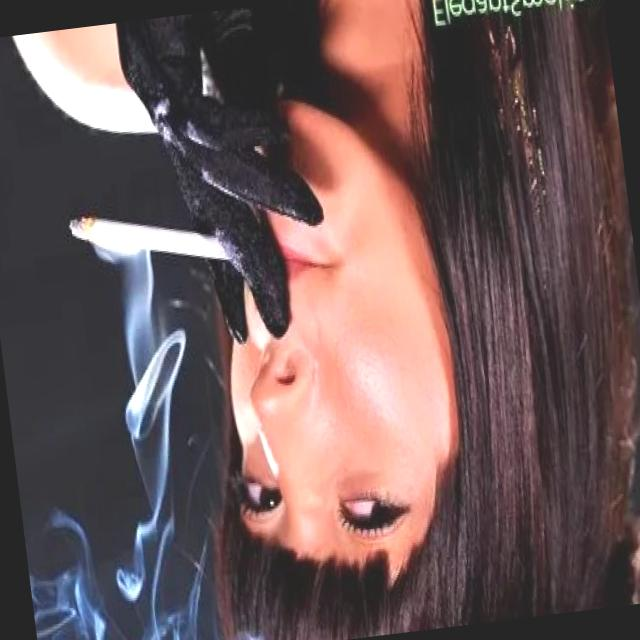cigarette: (65, 193, 246, 294)
